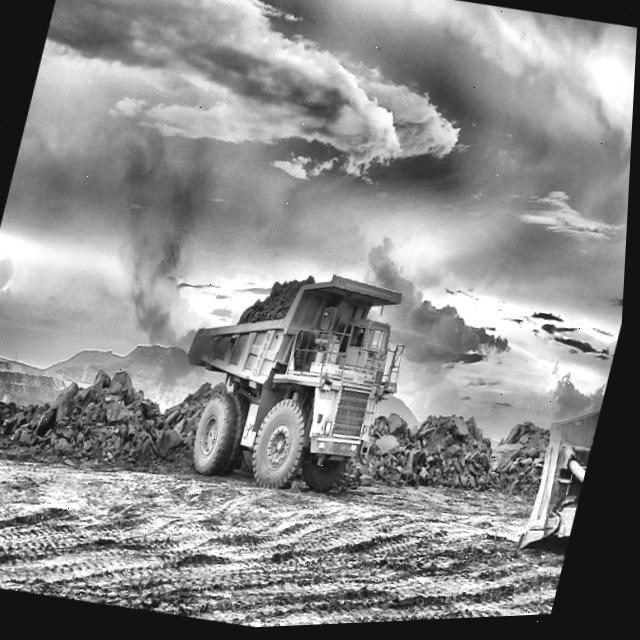dump_truck: (194, 278, 405, 489), (285, 379, 290, 383), (257, 347, 262, 351)
